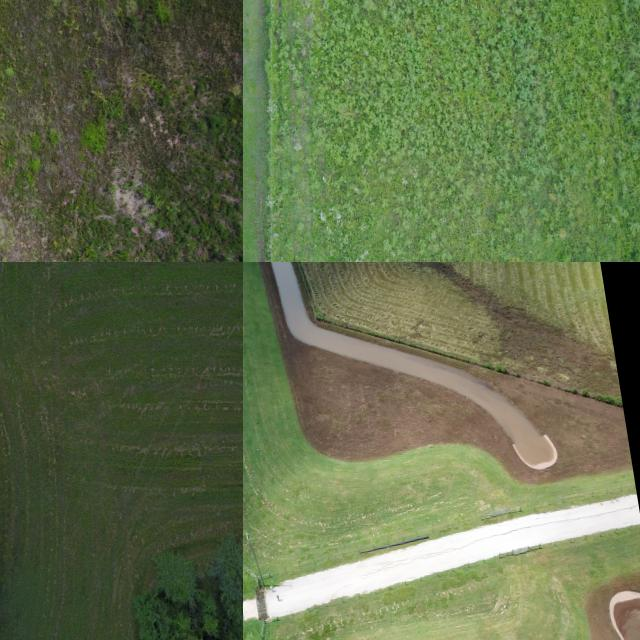fire: (271, 262, 559, 469), (611, 591, 640, 640)
